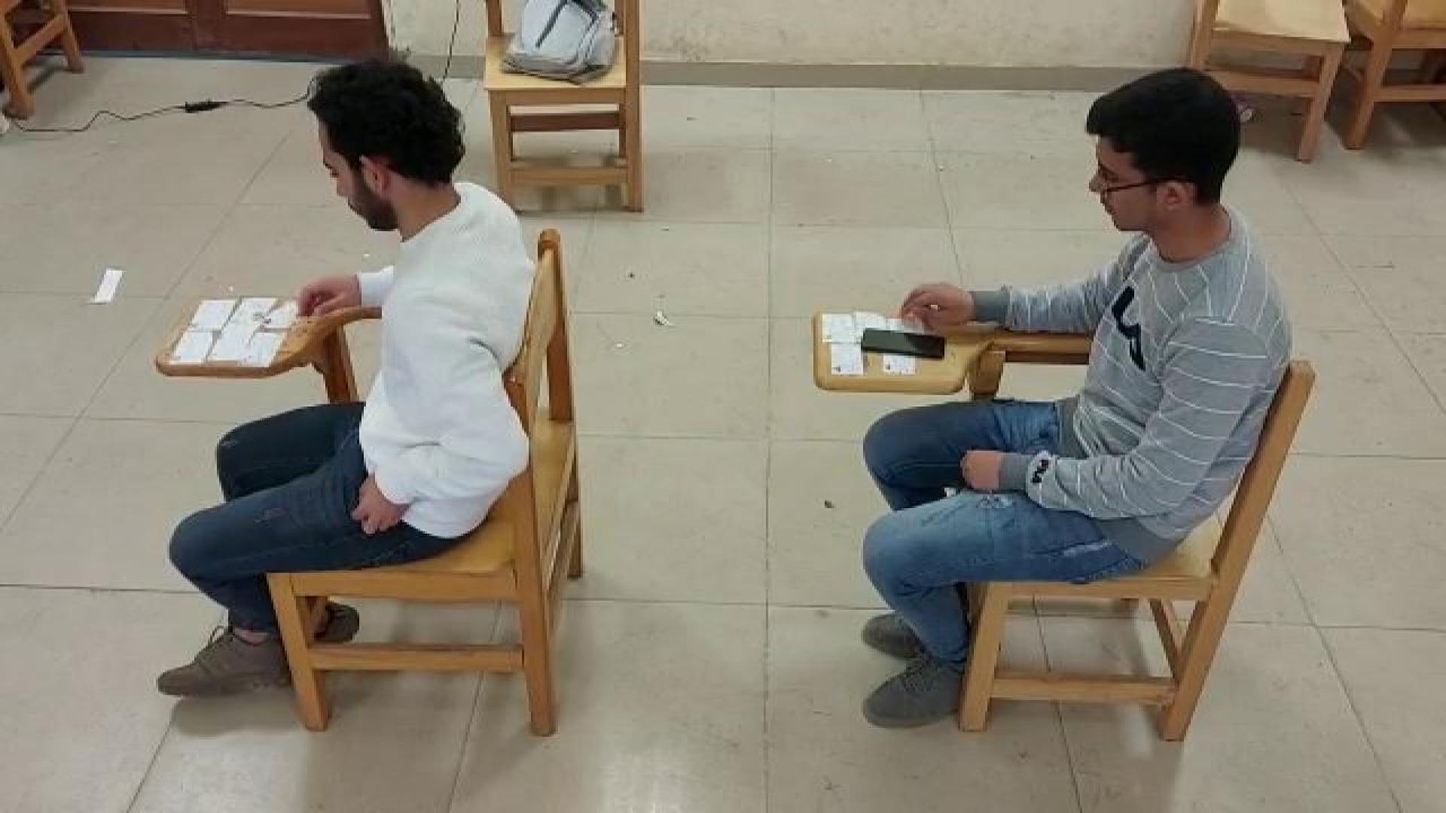phone: (859, 328, 949, 358)
